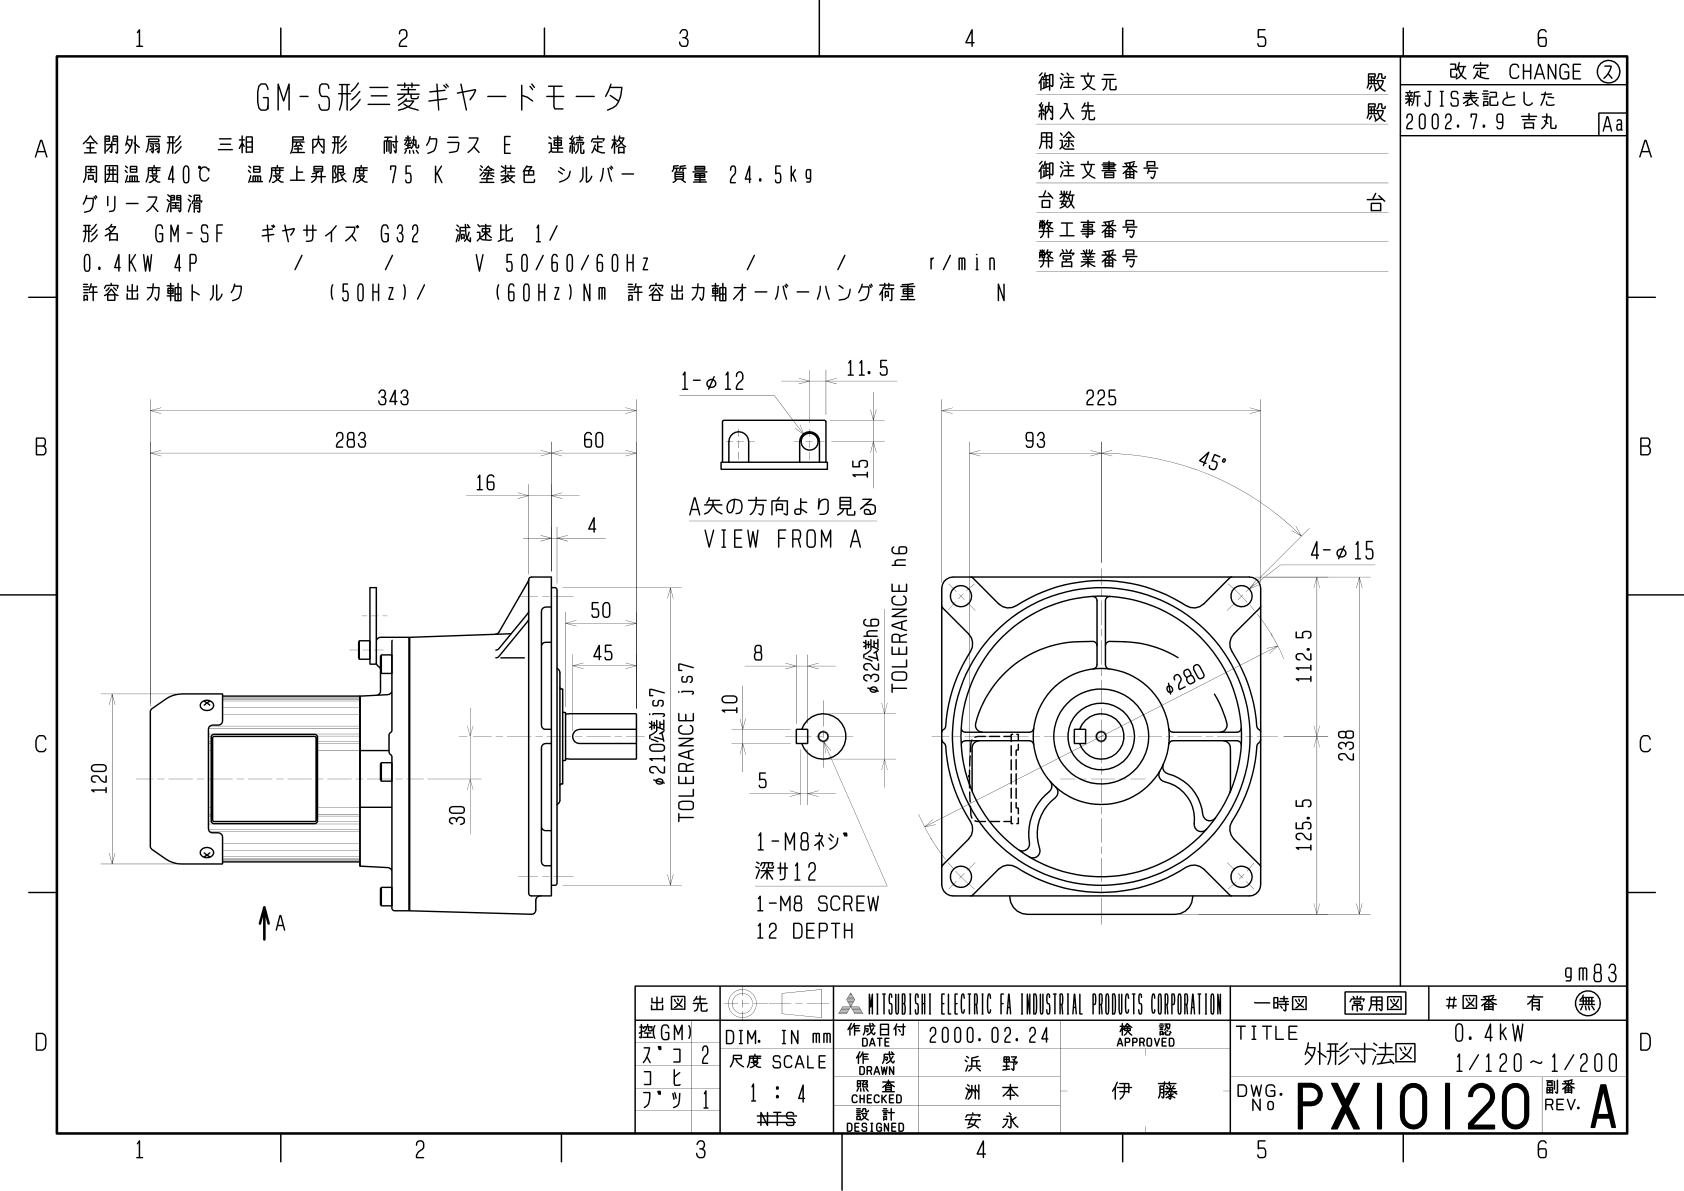GM_S_屋内＿三相_フランジ: (75, 331, 1393, 974)
